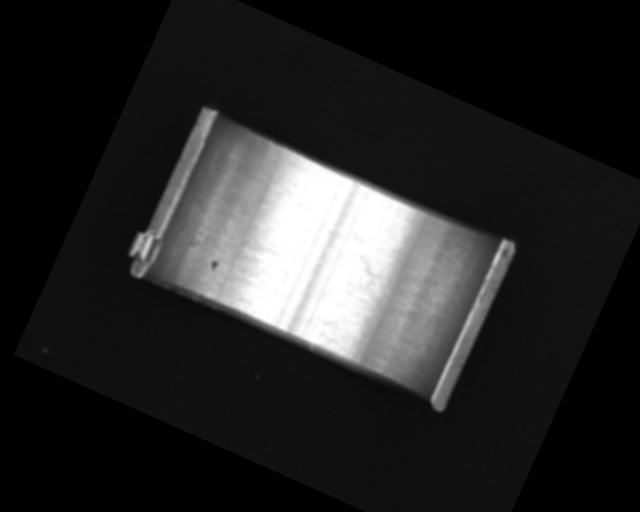blot: (341, 251, 400, 311)
bruise: (207, 258, 221, 274)
nick: (387, 207, 415, 247)
